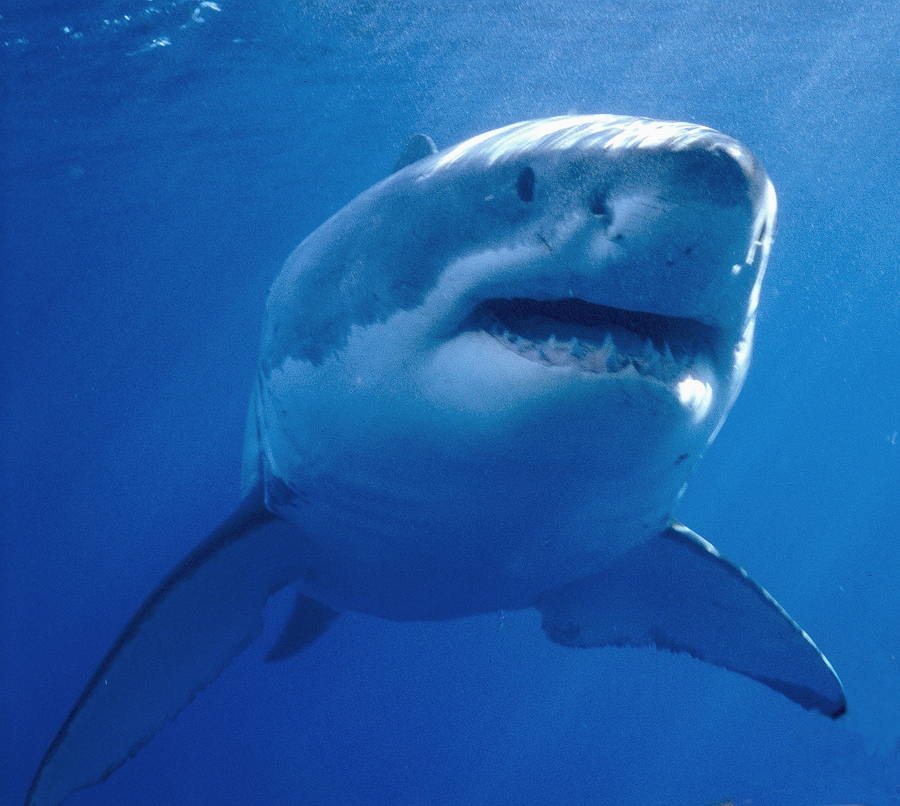Carcharodon_carcharias: (53, 89, 882, 791)
